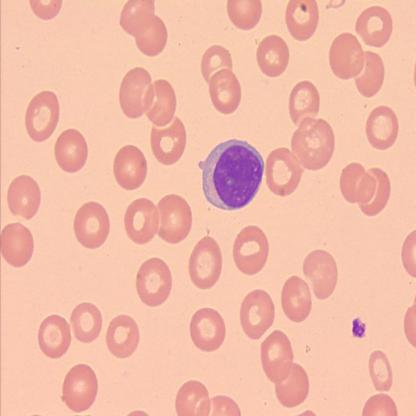Lymphocyte: (199, 138, 265, 212)
